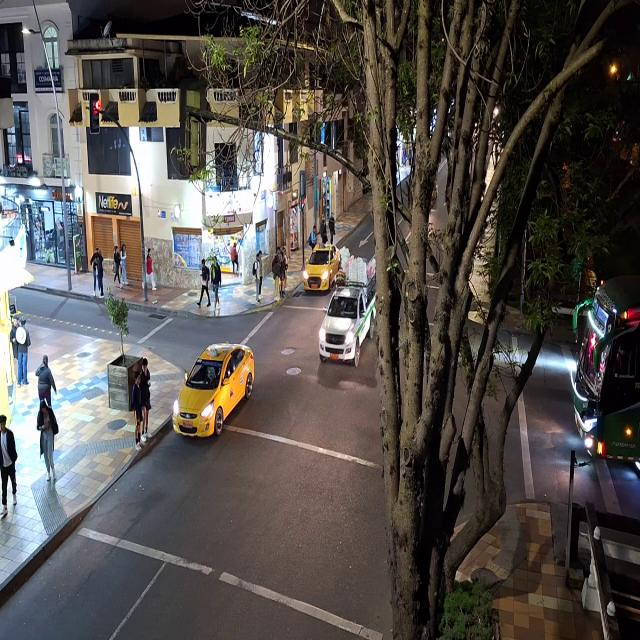BUS: (568, 276, 640, 462)
CMT: (318, 256, 376, 361)
SED: (172, 341, 254, 437), (299, 245, 342, 289)
